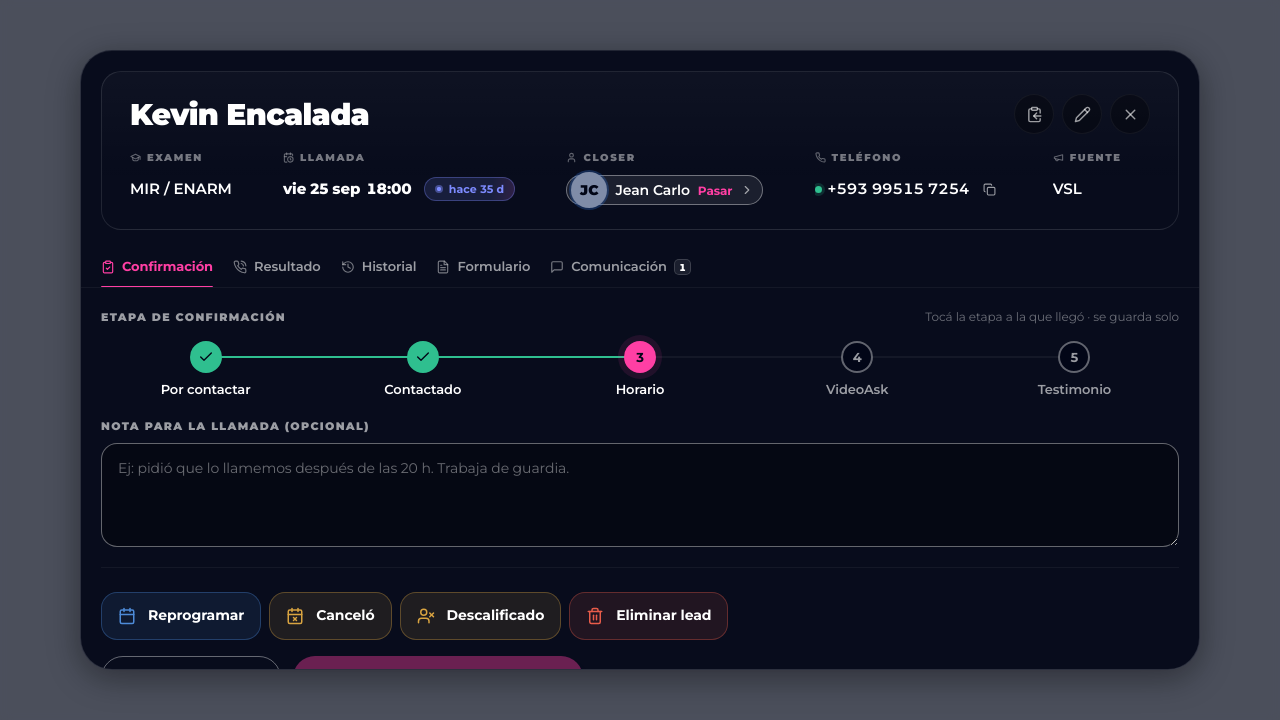
la fuente en modo edición › el rechazo del backend queda al lado del desplegable
Expected: the tab "Confirmación" is shown, [101, 246, 213, 287]
Click the button named "Editar los datos del lead" at (1082,114), box [1062, 94, 1102, 134]
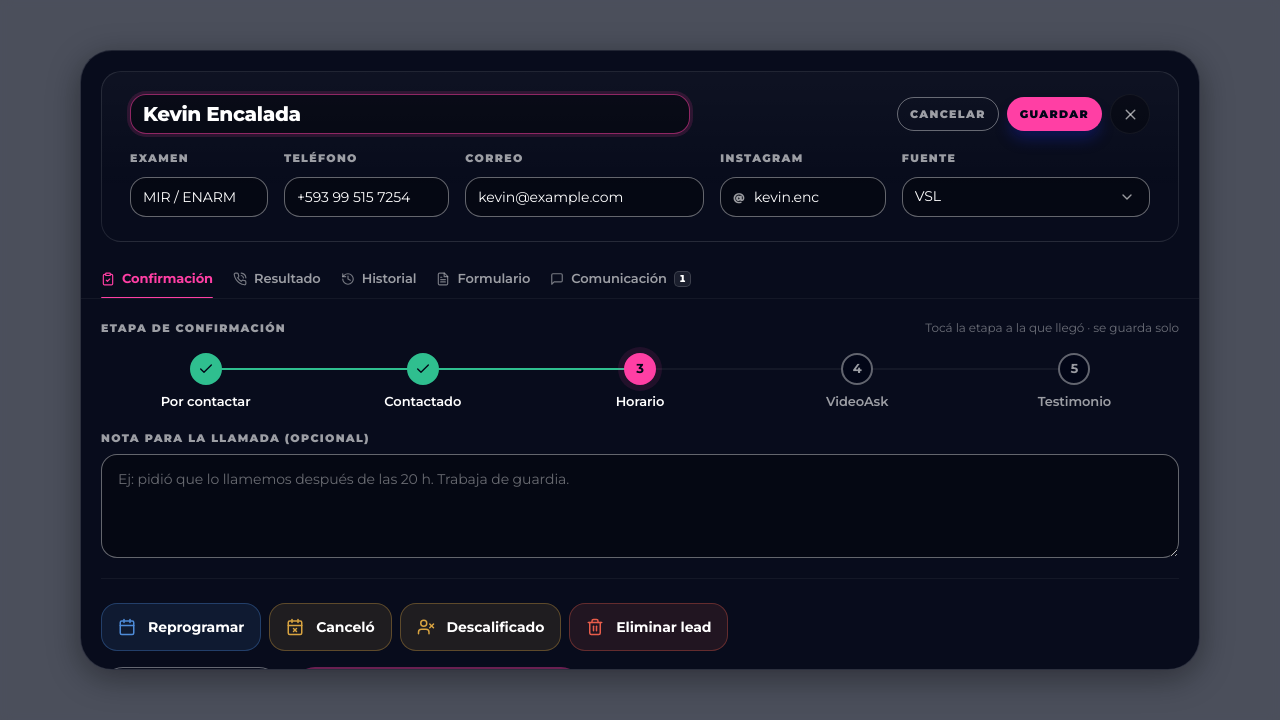
Select "Paula" in the dropdown labelled "Fuente" at (1026,197), box [915, 178, 1137, 216]
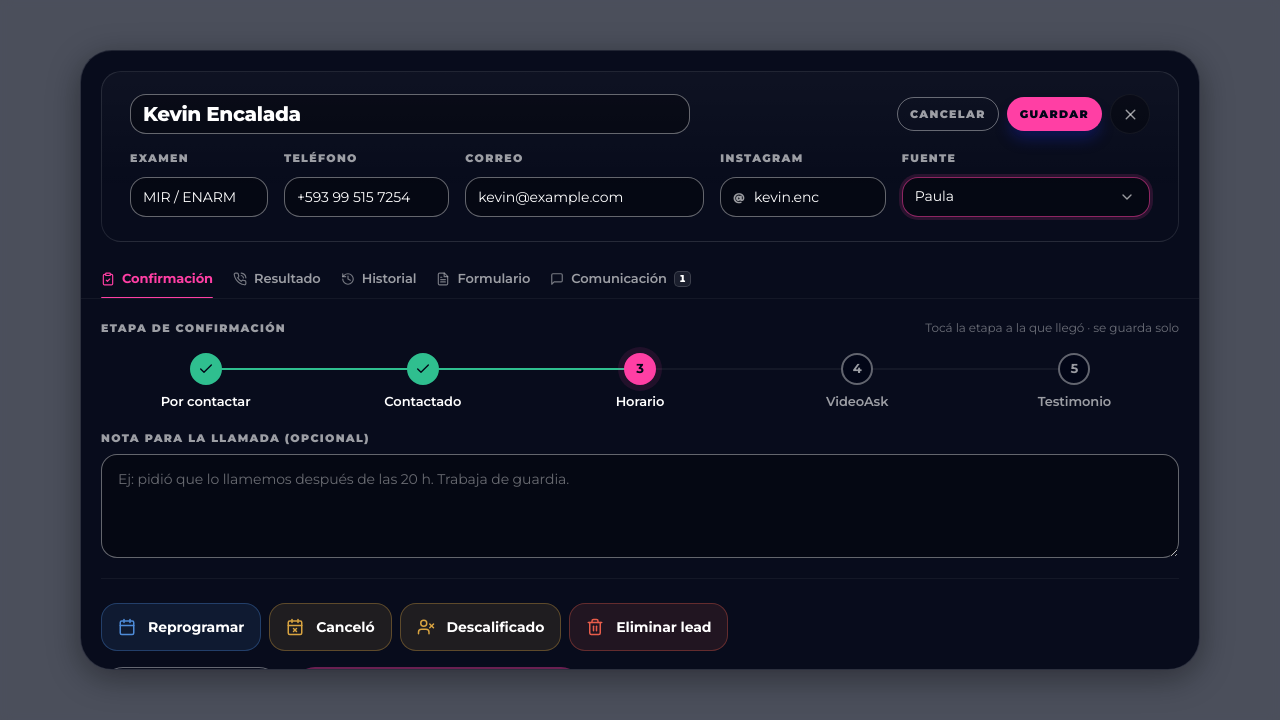
Click the button "Guardar" at (1054,114), box [1007, 97, 1102, 131]
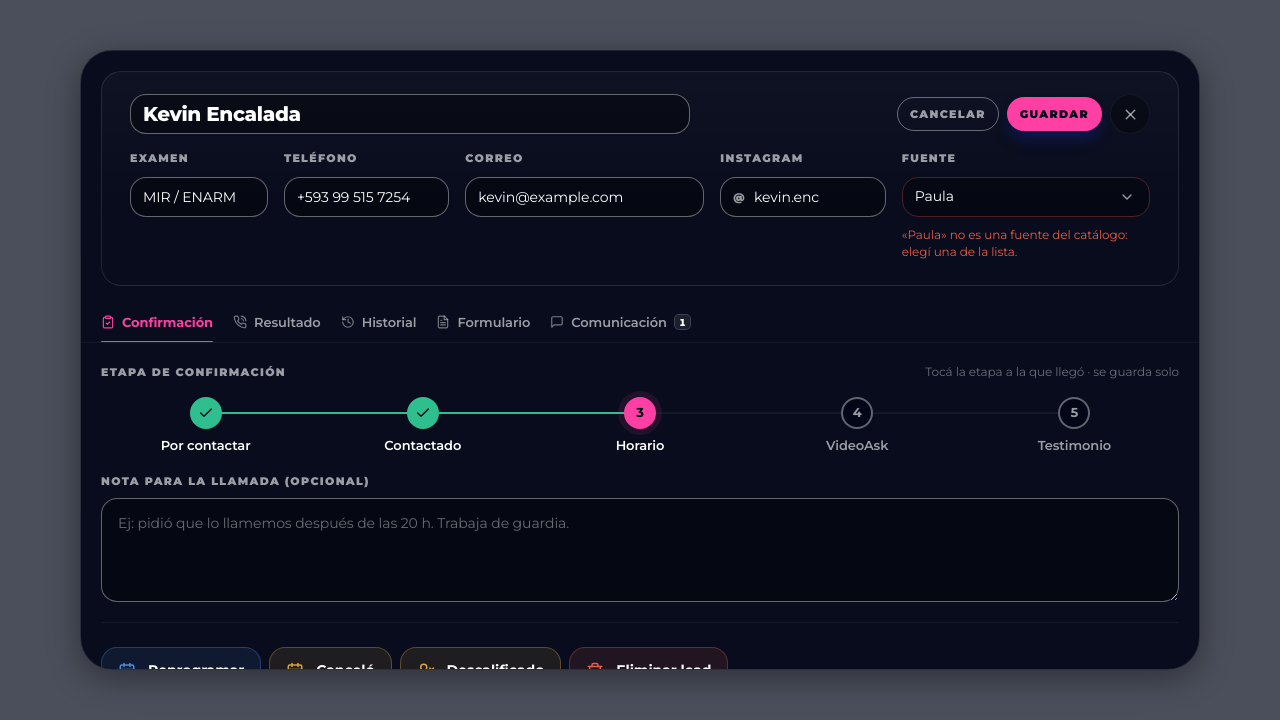
Now the message shows "no es una fuente del catálogo", box [902, 227, 1128, 259]
Select "Workshop" in the dropdown labelled "Fuente" at (1026,197), box [915, 178, 1137, 216]
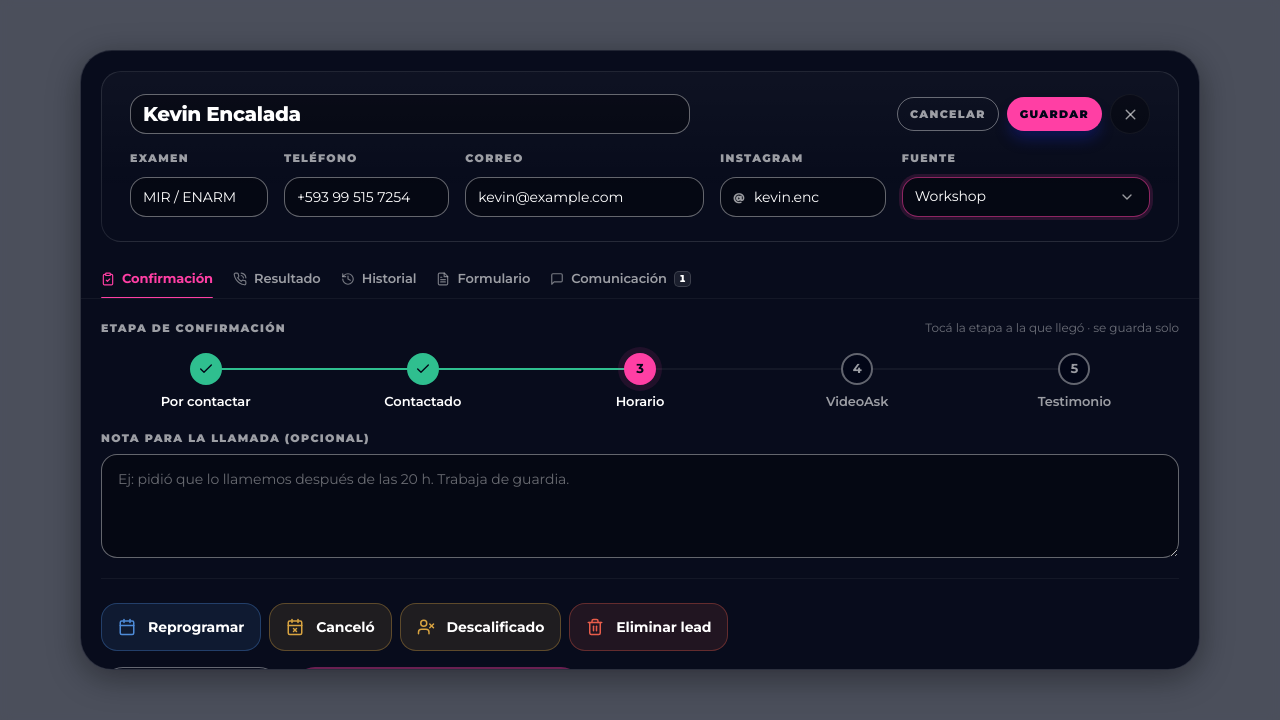
Now the message "«Paula» no es una fuente del catálogo: elegí una de la lista." is gone
